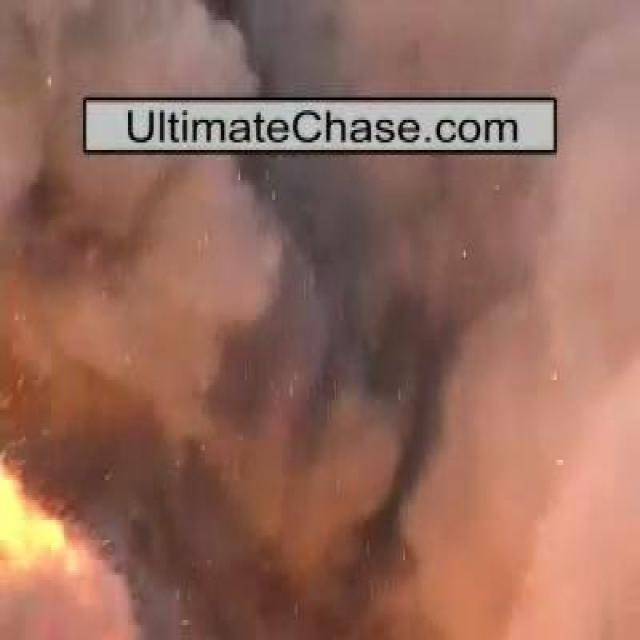Smoke: (70, 159, 560, 596)
